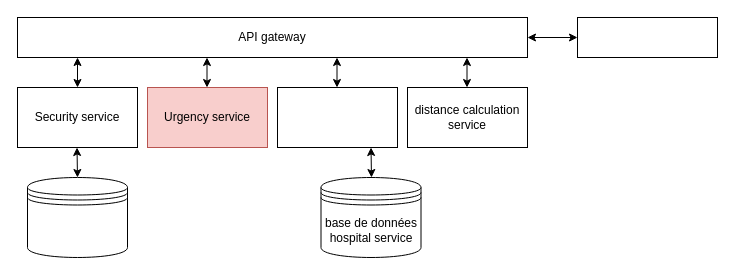
Image size: 735x275. Some labels were removed from this diagram. The centre of each missing label's shape, as x and y in pixels:
base de données security service: point (77, 217)
Hospital service: point (337, 117)
Service registry: point (647, 37)
